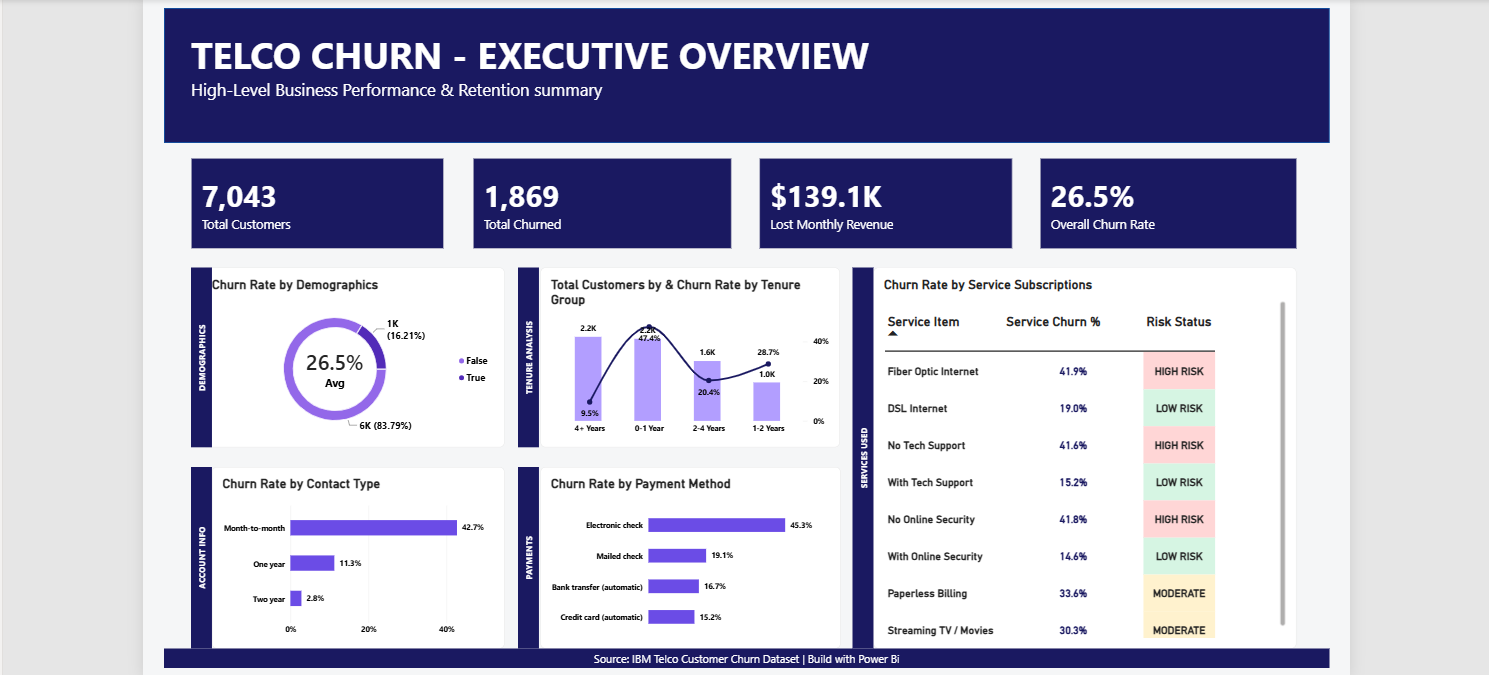

This screenshot's page, from the dashboard's own definition file:
{"tool":"powerbi","page":{"name":"EXECUTIVE OVERVIEW","canvas":[1920,1080],"ordinal":0},"visuals":[{"type":"shape","box":[33.4,14.3,1853.9,214.7],"z":0},{"type":"textbox","box":[76.5,48.2,1109.5,147.9],"z":1000},{"type":"cardVisual","fields":{"Data":["telco_churn.Total Customers"]},"box":[76.5,252.3,402.5,144.6],"z":2000},{"type":"cardVisual","fields":{"Data":["telco_churn.Total Churned"]},"box":[524.4,252.3,411,144.6],"z":3000},{"type":"cardVisual","fields":{"Data":["telco_churn.Lost Monthly Revenue"]},"box":[980.8,252.3,402.5,144.6],"z":4000},{"type":"cardVisual","fields":{"Data":["telco_churn.Overall Churn Rate"]},"box":[1425.8,252.3,408.2,144.6],"z":5000},{"type":"donutChart","title":"Churn Rate by Demographics","fields":{"Category":["telco_churn.Senior_Citizen"],"Y":["telco_churn.Customer Count"]},"box":[93.1,427.1,482,286.3],"z":6000},{"type":"clusteredBarChart","title":"Churn Rate by Contact Type","fields":{"Category":["telco_churn.Contract"],"Y":["telco_churn.Overall Churn Rate"]},"box":[109.8,744.4,465.3,288.7],"z":7000},{"type":"lineClusteredColumnComboChart","title":"Total Customers by & Churn Rate by Tenure Group","fields":{"Category":["telco_churn.Tenure_Cohort"],"Y":["telco_churn.Customer Count"],"Y2":["telco_churn.Overall Churn Rate"]},"box":[632.1,428,476.2,286.3],"z":8000},{"type":"clusteredBarChart","title":"Churn Rate by Payment Method","fields":{"Category":["telco_churn.Payment_Method"],"Y":["telco_churn.Overall Churn Rate"]},"box":[632.3,744.4,477.2,288.7],"z":9000},{"type":"tableEx","title":"Churn Rate by Service Subscriptions","fields":{"Values":["Service_Risk_Summary.Service Item","Service_Risk_Summary.Service Churn %","Service_Risk_Summary.Risk Status"]},"box":[1161.9,427.1,672.8,606],"z":10000},{"type":"shape","box":[76.3,427.1,33.4,286.3],"z":11000},{"type":"shape","box":[596.5,427.1,33.4,286.3],"z":12000},{"type":"shape","box":[76.3,744.4,33.4,288.7],"z":13000},{"type":"shape","box":[596.5,744.4,33.4,288.7],"z":14000},{"type":"shape","box":[1128.5,427.1,33.4,606],"z":15000},{"type":"shape","box":[33.4,1033.1,1853.9,31],"z":16000}]}

Visuals, with their boxes on the page's 1920x1080 design canvas (x1, y1, x2, y2). These are canvas units, not pixel positions in the 1489x675 screenshot, which may show the page scaled, cropped or inside an application window:
shape: 33/14/1887/229
textbox: 76/48/1186/196
cardVisual - telco_churn.Total Customers: 76/252/479/397
cardVisual - telco_churn.Total Churned: 524/252/935/397
cardVisual - telco_churn.Lost Monthly Revenue: 981/252/1383/397
cardVisual - telco_churn.Overall Churn Rate: 1426/252/1834/397
"Churn Rate by Demographics" donutChart: 93/427/575/713
"Churn Rate by Contact Type" clusteredBarChart: 110/744/575/1033
"Total Customers by & Churn Rate by Tenure Group" lineClusteredColumnComboChart: 632/428/1108/714
"Churn Rate by Payment Method" clusteredBarChart: 632/744/1110/1033
"Churn Rate by Service Subscriptions" tableEx: 1162/427/1835/1033
shape: 76/427/110/713
shape: 596/427/630/713
shape: 76/744/110/1033
shape: 596/744/630/1033
shape: 1128/427/1162/1033
shape: 33/1033/1887/1064
